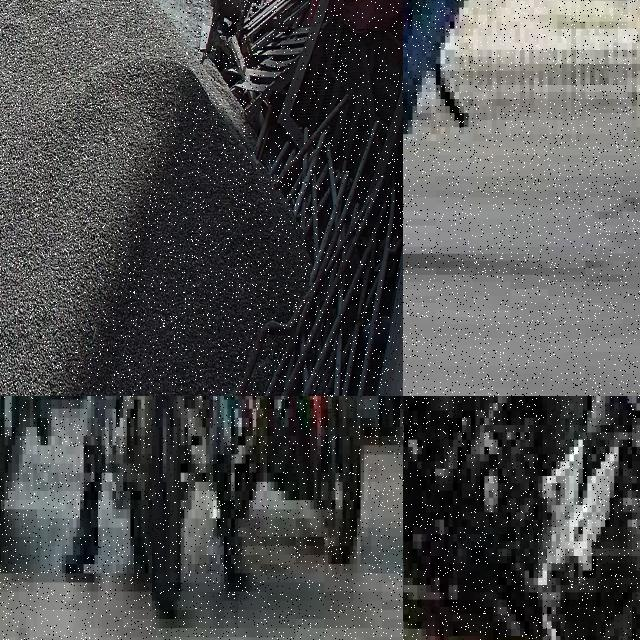bike: (403, 396, 640, 640), (220, 396, 367, 573), (108, 396, 209, 610), (403, 0, 450, 282)
